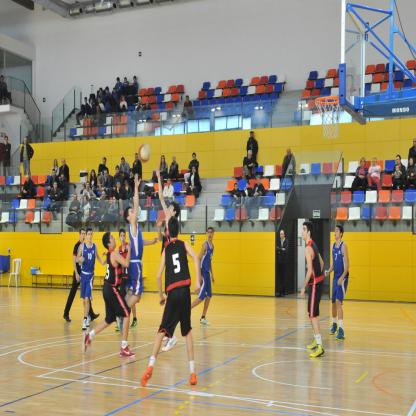Ball: (139, 143, 150, 161)
